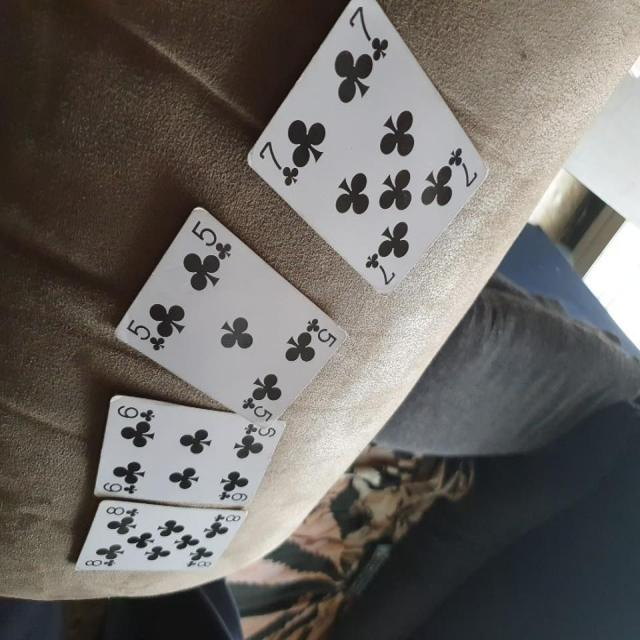5 Trefoils: (112, 206, 350, 430)
6 Trefoils: (91, 393, 286, 508)
7 Trefoils: (245, 1, 491, 300)
8 Trefoils: (75, 498, 247, 574)
